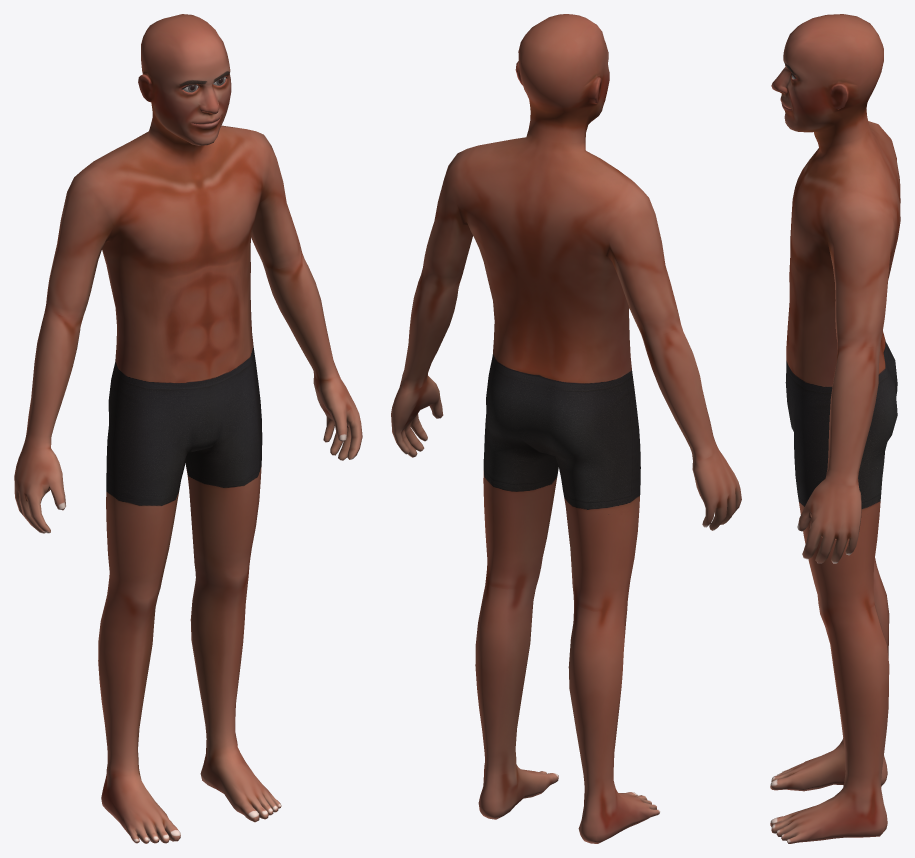
Rendered from StylizedMale_Geo-Only.fbx.
The picture shows the model from 3 angles, left to right: view 1: azimuth 30°, elevation 25°; view 2: azimuth 150°, elevation 25°; view 3: azimuth 270°, elevation 25°; orthographic projection.
Parts seen in each view (by area): view 1: Body_Geo; view 2: Body_Geo; view 3: Body_Geo.
Boxes of the visible parts, x1,y1,x2,y2 form: Body_Geo: (14,14,362,843); Body_Geo: (391,14,741,843); Body_Geo: (770,14,900,843).
Bounding box in the file's own units: 2.89 × 6.5 × 0.9691.
1 material, 1 textured.
